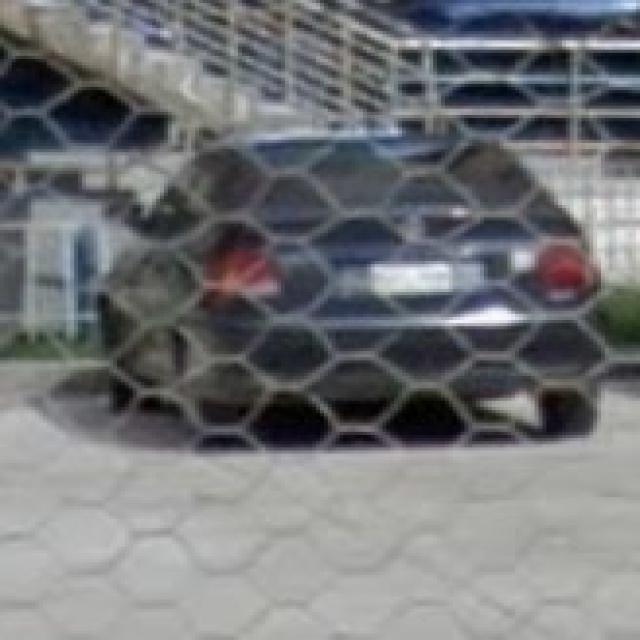Car: (94, 130, 606, 452)
